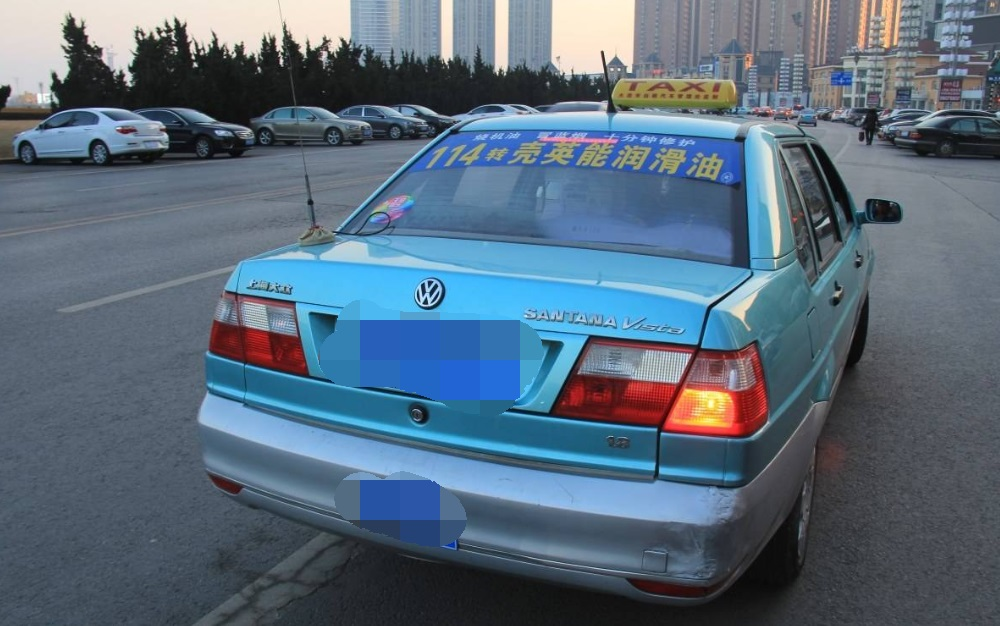taxi: (194, 75, 906, 615)
